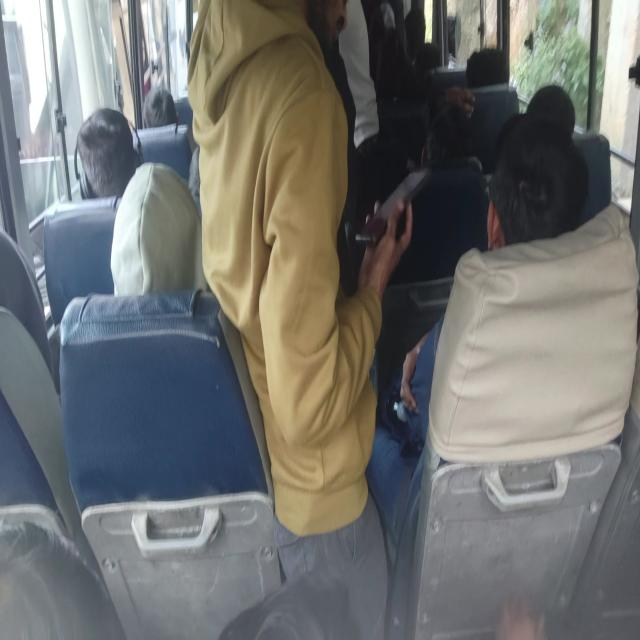person: (186, 0, 414, 638), (366, 108, 590, 557), (486, 112, 589, 250), (74, 106, 140, 205), (142, 85, 178, 128)
